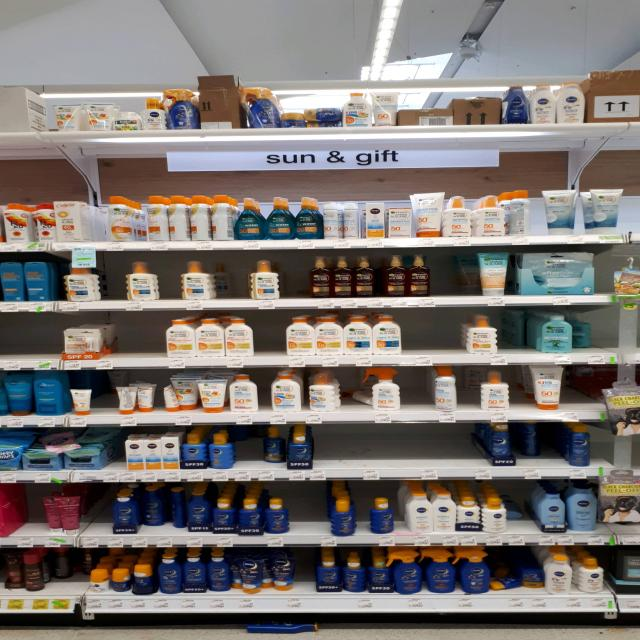void: (324, 423, 362, 479), (506, 308, 539, 364), (568, 368, 601, 422), (298, 488, 328, 546), (405, 310, 434, 366), (394, 425, 423, 481), (0, 316, 30, 369), (32, 317, 62, 370), (84, 486, 109, 547), (426, 425, 454, 479), (364, 424, 391, 480), (104, 320, 134, 370), (436, 311, 464, 364), (18, 486, 42, 546), (441, 252, 468, 305), (135, 320, 163, 367), (298, 549, 318, 614), (220, 261, 247, 308), (596, 308, 618, 364), (258, 316, 282, 366), (286, 256, 308, 309), (94, 375, 117, 425), (458, 425, 480, 477), (410, 368, 430, 421), (162, 256, 180, 308), (104, 259, 122, 310)
